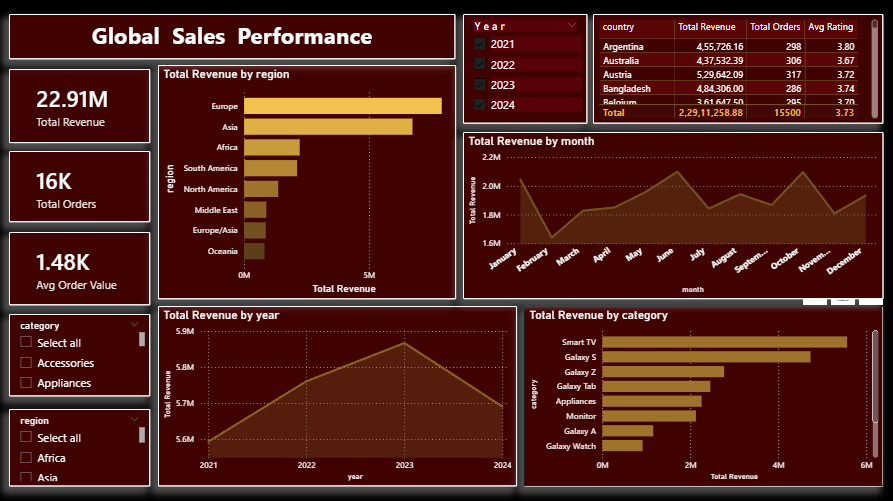

What the dashboard file says about the page in this screenshot:
{"tool":"powerbi","page":{"name":"Global Sales Performance Dashboard","canvas":[1280,720],"ordinal":0},"visuals":[{"type":"cardVisual","fields":{"Data":["samsung_sales.Total Revenue"]},"box":[14.9,100.9,201.7,105.8],"z":0},{"type":"cardVisual","fields":{"Data":["samsung_sales.Total Orders"]},"box":[14.9,219.1,201.7,102.1],"z":1000},{"type":"cardVisual","fields":{"Data":["samsung_sales.Avg Order Value"]},"box":[14.9,334.9,201.7,104.6],"z":2000},{"type":"lineChart","fields":{"Category":["samsung_sales.year"],"Y":["samsung_sales.Total Revenue"]},"box":[226.6,439.5,513,257.7],"z":3000},{"type":"barChart","fields":{"Category":["samsung_sales.region"],"Y":["samsung_sales.Total Revenue"]},"box":[226.6,95.9,425.8,334.9],"z":4000},{"type":"barChart","fields":{"Category":["samsung_sales.category"],"Y":["samsung_sales.Total Revenue"]},"box":[749.6,439.5,514.2,257.7],"z":5000},{"type":"tableEx","fields":{"Values":["samsung_sales.country","samsung_sales.Total Revenue","samsung_sales.Total Orders","samsung_sales.Avg Rating"]},"box":[849.2,22.4,414.6,156.9],"z":6000},{"type":"slicer","fields":{"Values":["samsung_sales.year"]},"box":[662.4,22.4,178.1,156.9],"z":7000},{"type":"slicer","fields":{"Values":["samsung_sales.region"]},"box":[14.9,586.5,201.7,110.8],"z":8000},{"type":"slicer","fields":{"Values":["samsung_sales.category"]},"box":[14.9,452,201.7,118.3],"z":9000},{"type":"lineChart","fields":{"Category":["samsung_sales.month"],"Y":["samsung_sales.Total Revenue"]},"box":[662.4,191.8,601.4,239.1],"z":10000},{"type":"textbox","box":[14.9,22.4,637.5,64.7],"z":11000}]}

Visuals, with their boxes in screenshot pixels (x1, y1, x2, y2), scaled from the page's 1280x720 canvas onto the 893x501 screenshot:
cardVisual - samsung_sales.Total Revenue: bbox(10, 70, 151, 144)
cardVisual - samsung_sales.Total Orders: bbox(10, 152, 151, 224)
cardVisual - samsung_sales.Avg Order Value: bbox(10, 233, 151, 306)
lineChart - samsung_sales.year x samsung_sales.Total Revenue: bbox(158, 306, 516, 485)
barChart - samsung_sales.region x samsung_sales.Total Revenue: bbox(158, 67, 455, 300)
barChart - samsung_sales.category x samsung_sales.Total Revenue: bbox(523, 306, 882, 485)
tableEx - samsung_sales.country x samsung_sales.Total Revenue: bbox(592, 16, 882, 125)
slicer - samsung_sales.year: bbox(462, 16, 586, 125)
slicer - samsung_sales.region: bbox(10, 408, 151, 485)
slicer - samsung_sales.category: bbox(10, 315, 151, 397)
lineChart - samsung_sales.month x samsung_sales.Total Revenue: bbox(462, 133, 882, 300)
textbox: bbox(10, 16, 455, 61)
